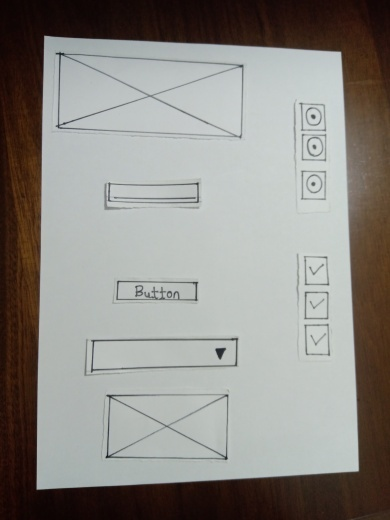button: (115, 279, 197, 298)
checkbox: (302, 259, 330, 282), (300, 329, 328, 352), (303, 293, 331, 316)
dropdown: (88, 340, 239, 367)
img: (54, 54, 244, 140), (106, 395, 228, 458)
radio: (299, 105, 325, 128), (298, 172, 324, 195), (300, 137, 326, 160)
text: (104, 182, 201, 205)
